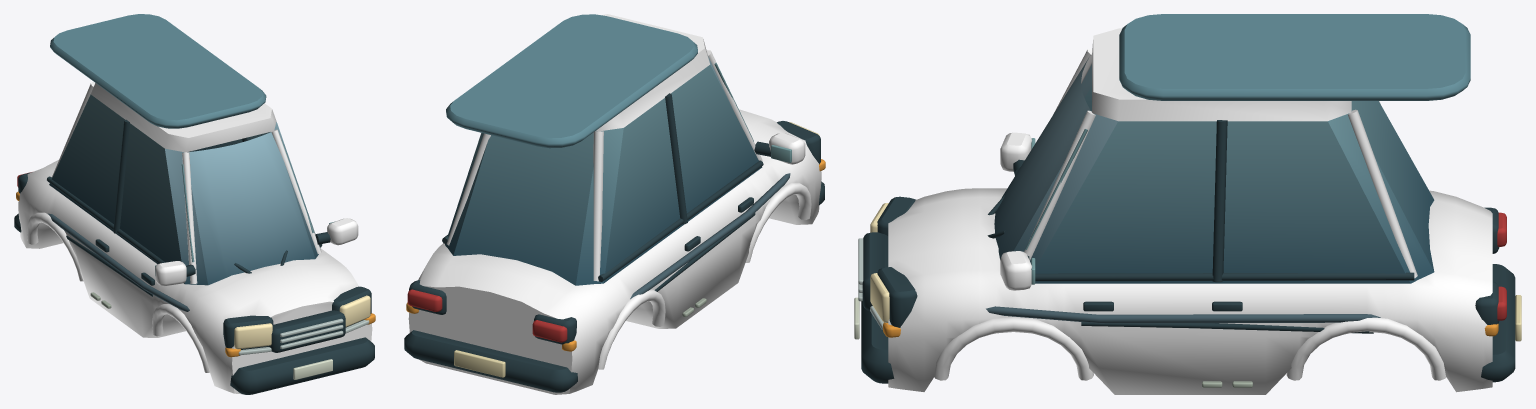
The model's file is bento.glb.
The picture shows the model from 3 angles, left to right: view 1: azimuth 30°, elevation 25°; view 2: azimuth 150°, elevation 25°; view 3: azimuth 270°, elevation 25°; orthographic projection. The views are drawn at different scales.
Visible parts, largest first — view 1: Chassis, Headlamps; view 2: Chassis, BrakeLamps; view 3: Chassis, Headlamps, BrakeLamps.
Boxes of the visible parts, x1=… form: Chassis: x1=14, y1=14, x2=374, y2=394; Headlamps: x1=234, y1=295, x2=370, y2=349; Chassis: x1=404, y1=14, x2=824, y2=394; BrakeLamps: x1=407, y1=289, x2=567, y2=342; Chassis: x1=854, y1=14, x2=1521, y2=394; Headlamps: x1=870, y1=203, x2=889, y2=322; BrakeLamps: x1=1497, y1=212, x2=1506, y2=320.
Size of the model in its own units: 1.49 by 1.49 by 3.06.
